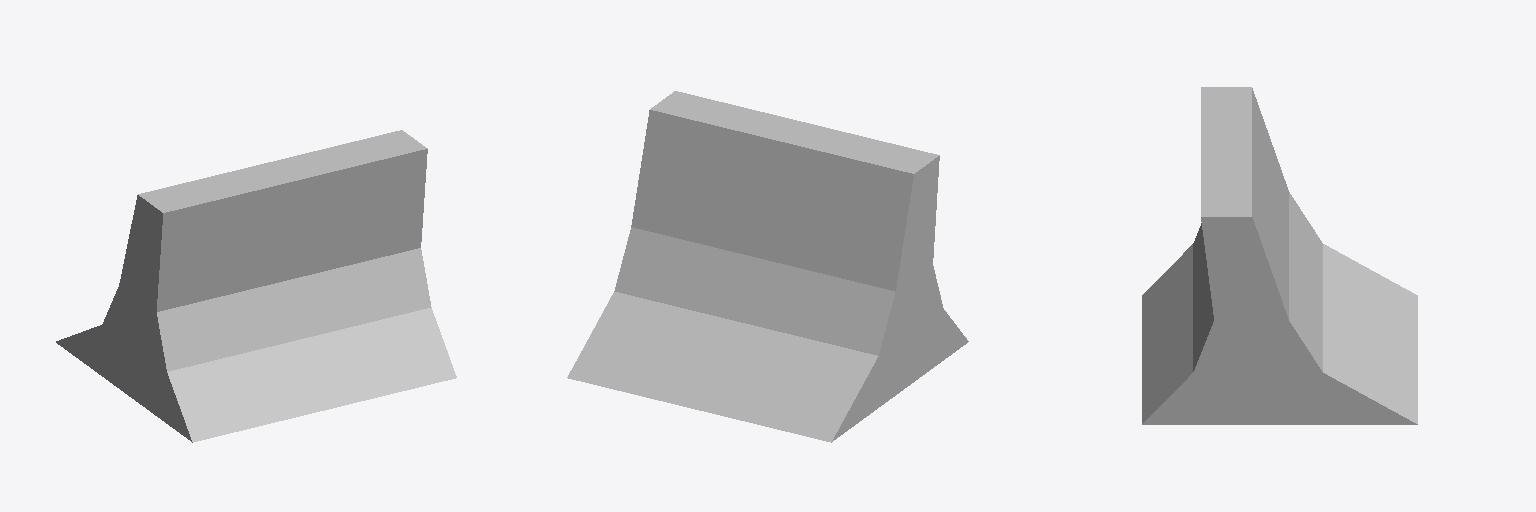
File: road_barrier_01.obj
The picture shows the model from 3 angles: view 1: azimuth 30°, elevation 25°; view 2: azimuth 150°, elevation 25°; view 3: azimuth 270°, elevation 25°; orthographic projection.
Visible parts, largest first — view 1: Cube; view 2: Cube; view 3: Cube.
Boxes of the visible parts, x1=… form: Cube: x1=56, y1=130, x2=456, y2=442; Cube: x1=567, y1=91, x2=968, y2=442; Cube: x1=1142, y1=87, x2=1417, y2=424.
Bounding box in the file's own units: 8.17 × 6.14 × 7.36.